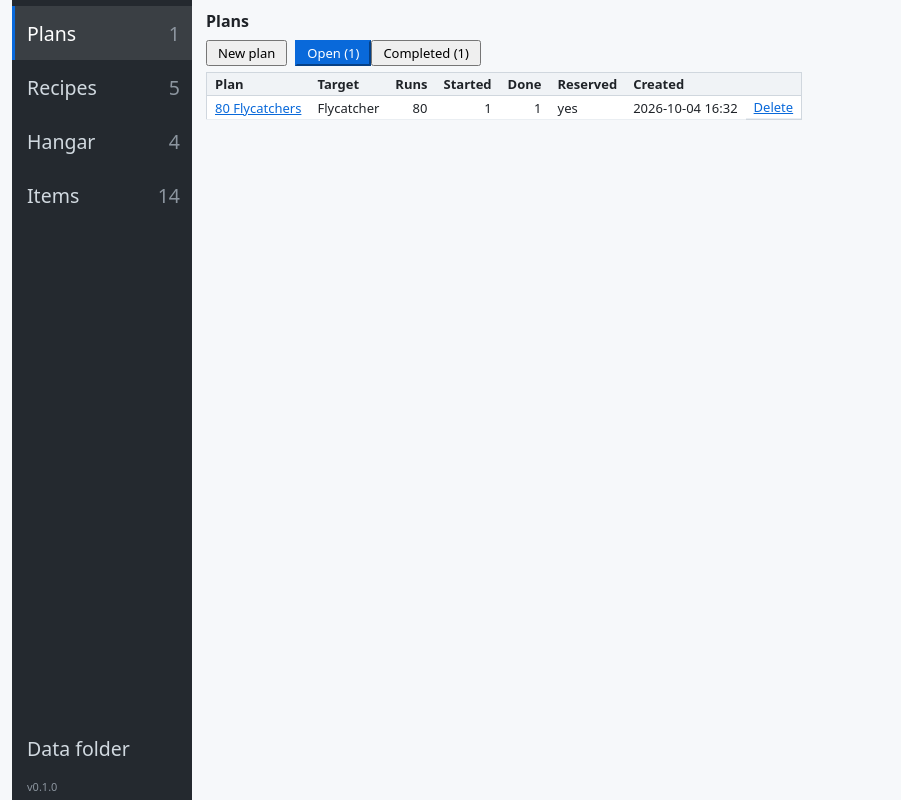
Test: RecipesSection › lists recipes with product, variant, type, output and inputs
What coordinates should you click on to do the following:
click the button "Recipes 5"
I would click on:
 (102, 87)
Its box is [12, 60, 192, 114].
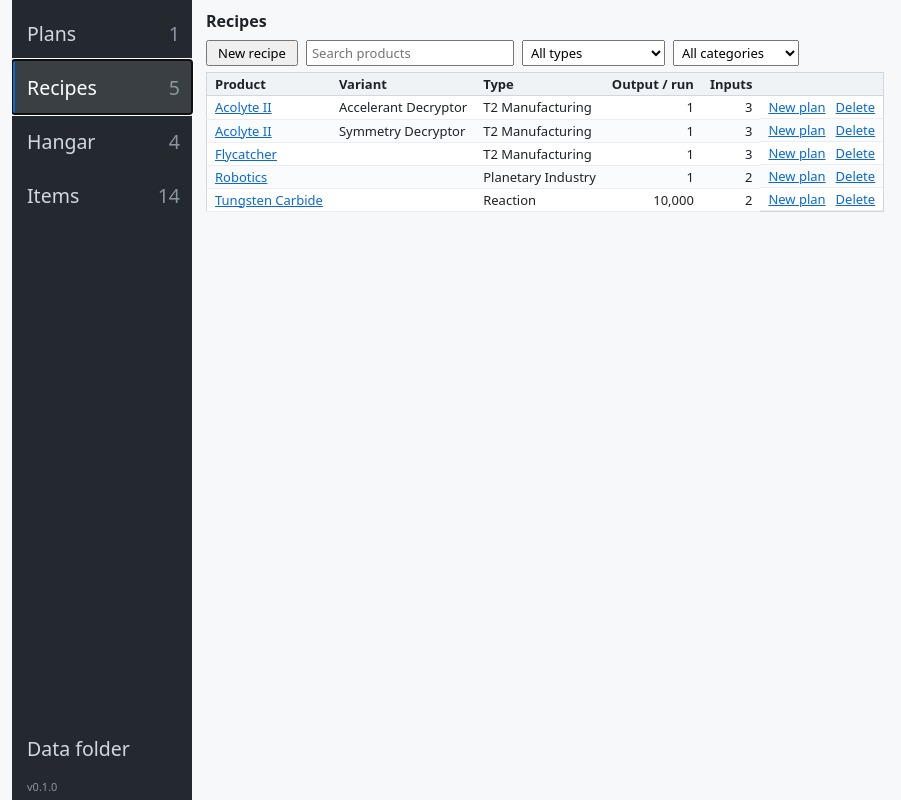
Check: the column heading "Output / run" is shown, box [604, 72, 702, 96]
